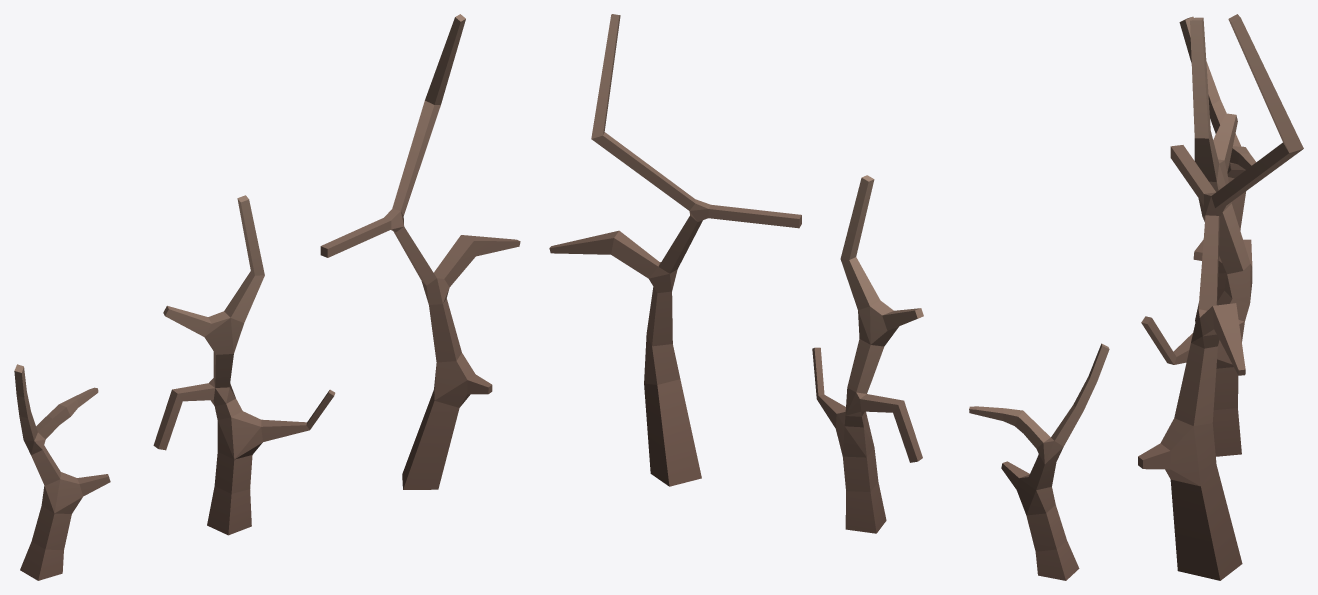
Rendered from Dead Trees.glb.
The picture shows the model from 3 angles, left to right: view 1: azimuth 30°, elevation 25°; view 2: azimuth 150°, elevation 25°; view 3: azimuth 270°, elevation 25°; orthographic projection. The views are drawn at different scales.
Visible parts, largest first — view 1: DeadTree.002, DeadTree.001, DeadTree; view 2: DeadTree.002, DeadTree.001, DeadTree; view 3: DeadTree.002, DeadTree.001, DeadTree.
Boxes of the visible parts, x1,y1,x2,y2 form: DeadTree.002: (320,14,520,489); DeadTree.001: (153,195,335,535); DeadTree: (14,364,110,580); DeadTree.002: (549,14,801,486); DeadTree.001: (812,175,923,533); DeadTree: (969,343,1109,580); DeadTree.002: (1138,14,1303,580); DeadTree.001: (1141,17,1252,456); DeadTree: (1179,16,1255,322).
Size of the model in its own units: 11.18 by 9.08 by 2.34.
Materials: 1 (1 with a texture image).
